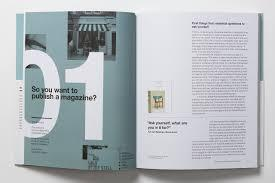Printing industry: (5, 5, 275, 183)
